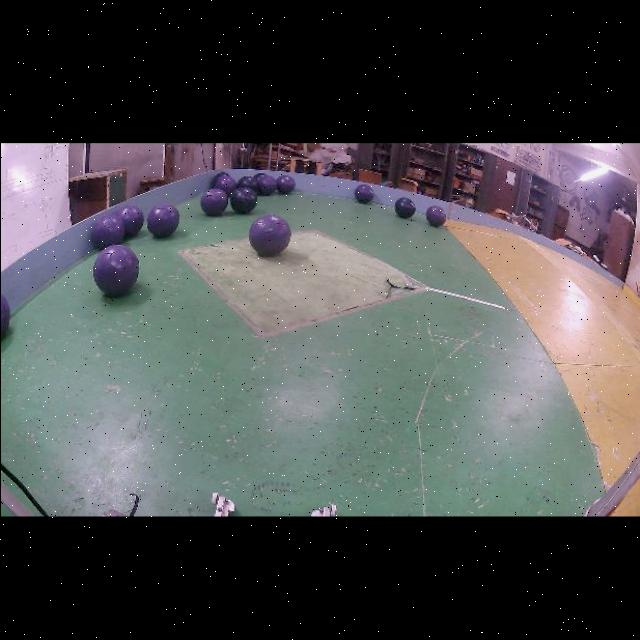B: (229, 185, 256, 213), (394, 196, 415, 217), (208, 170, 228, 187), (237, 174, 258, 189)
P: (93, 243, 138, 295), (249, 213, 290, 254), (91, 213, 124, 248), (146, 202, 178, 236), (116, 204, 143, 236), (199, 187, 228, 214), (214, 174, 236, 196), (425, 204, 446, 226), (0, 291, 10, 337), (276, 174, 295, 193), (354, 183, 373, 202), (258, 174, 276, 194)
